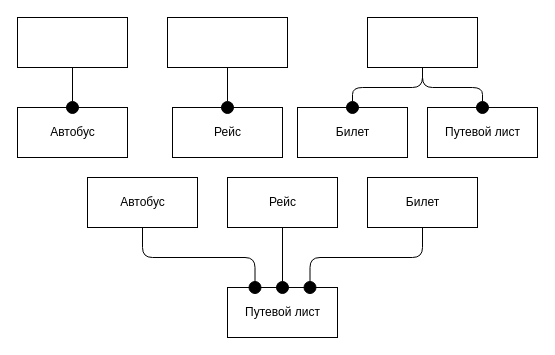
Some shapes in this 555 by 355 pixel diagram are drawn without their labels. The centre of each missing label's shape, as x and y in pixels:
Населенные пункты: the point at 227,42
Перевозчик: the point at 72,42
Сотрудники: the point at 422,42
